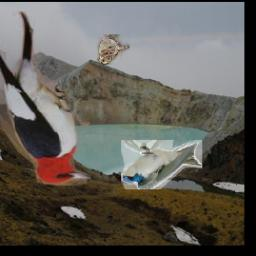Sparrow: (98, 34, 131, 65)
Swallow: (122, 140, 203, 189)
Woodpecker: (0, 12, 91, 187)
